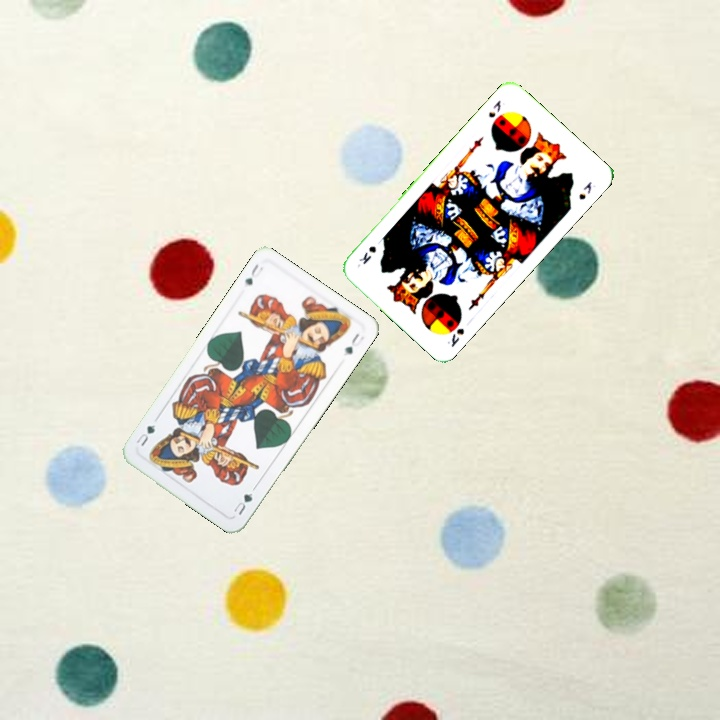GU: (230, 483, 258, 518), (241, 259, 266, 288)
SK: (443, 324, 467, 350), (484, 96, 504, 120)
